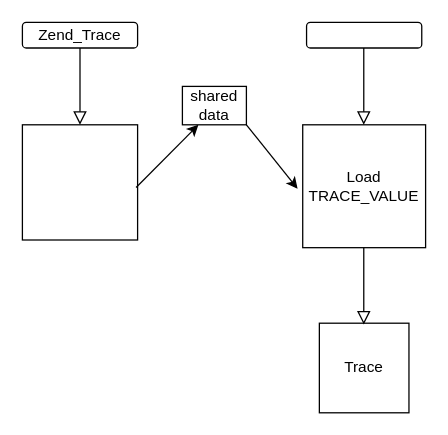
Some shapes in this 448 by 435 pixel diagram are drawn without their labels. Here are the shapes that lost their labels. From the top down, the centre of each, then its label:
At (363,34): "Thread".
At (79,182): "Save TRACE_VALUE".
